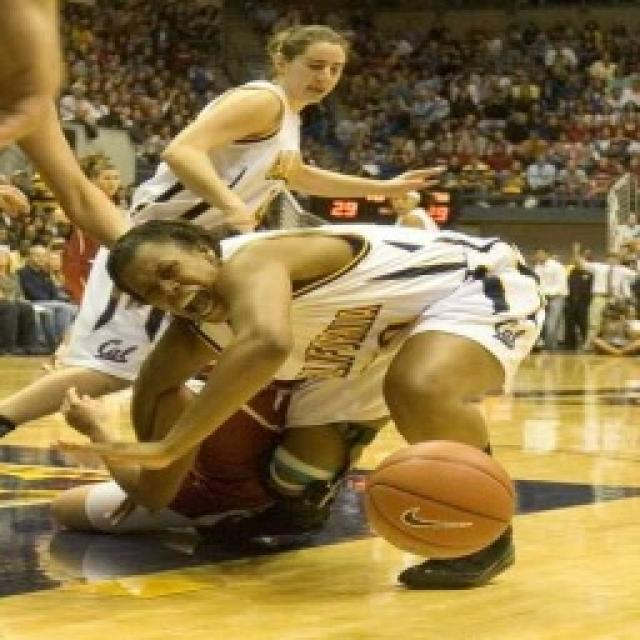rim: (363, 432, 522, 564)
